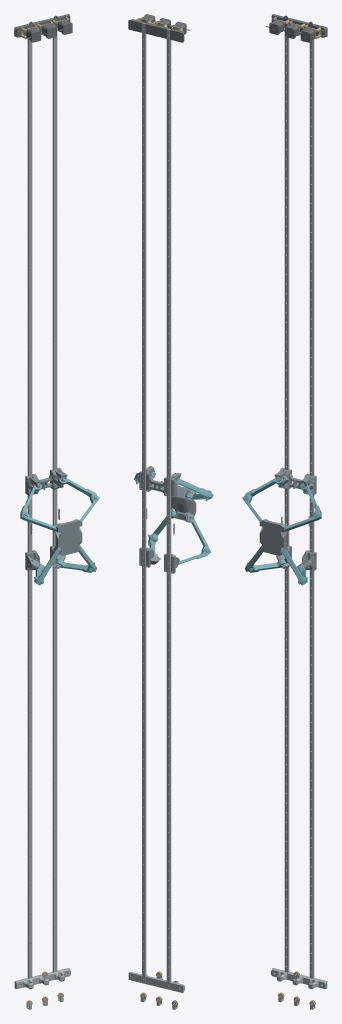
Rendered from assembly.glb.
The picture shows the model from 3 angles, left to right: view 1: azimuth 30°, elevation 25°; view 2: azimuth 150°, elevation 25°; view 3: azimuth 330°, elevation 25°; orthographic projection.
Visible parts, largest first — view 1: part_0, part_3, part_50, part_28, part_55, part_91, part_43; view 2: part_0, part_3, part_50, part_88, part_61; view 3: part_0, part_3, part_50, part_88, part_61, part_42, part_93.
Part boxes in pixels (x1=…): part_0: x1=14, y1=14, x2=72, y2=1009; part_3: x1=53, y1=519, x2=82, y2=555; part_50: x1=25, y1=467, x2=67, y2=495; part_28: x1=25, y1=550, x2=44, y2=571; part_55: x1=57, y1=477, x2=98, y2=500; part_91: x1=55, y1=559, x2=95, y2=572; part_43: x1=35, y1=547, x2=61, y2=585; part_0: x1=128, y1=14, x2=190, y2=1009; part_3: x1=171, y1=485, x2=196, y2=520; part_50: x1=139, y1=466, x2=181, y2=497; part_88: x1=139, y1=547, x2=160, y2=567; part_61: x1=177, y1=478, x2=211, y2=501; part_0: x1=265, y1=14, x2=327, y2=1009; part_3: x1=259, y1=519, x2=288, y2=555; part_50: x1=274, y1=467, x2=316, y2=495; part_88: x1=297, y1=550, x2=316, y2=571; part_61: x1=243, y1=477, x2=284, y2=500; part_42: x1=246, y1=559, x2=286, y2=572; part_93: x1=280, y1=547, x2=306, y2=585.
Size of the model in its own units: 0.3414 by 4.1 by 0.2138.
